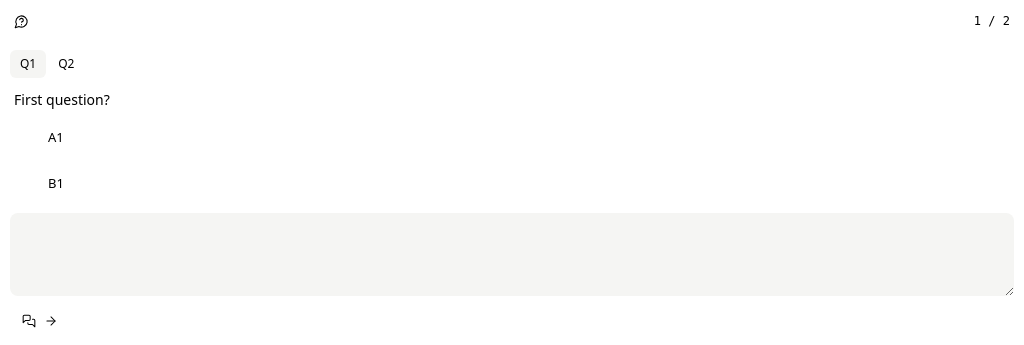
Test: AskUserQuestion › moving to the next question › advances on its own after a single-select pick, without submitting
Click the button "A1". click: click(56, 137)
box: x1=10 y1=118 x2=1014 y2=158
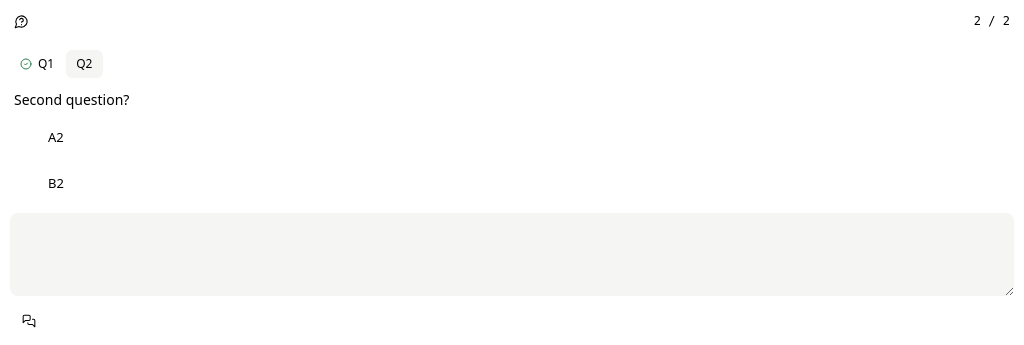
Check: the text "Second question?" is shown, box x1=14 y1=90 x2=129 y2=109
